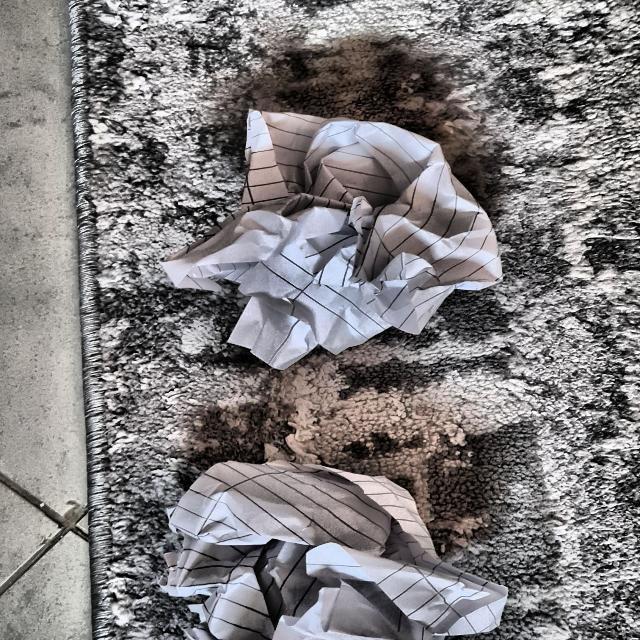paper: (193, 125, 490, 370), (155, 465, 473, 640)
